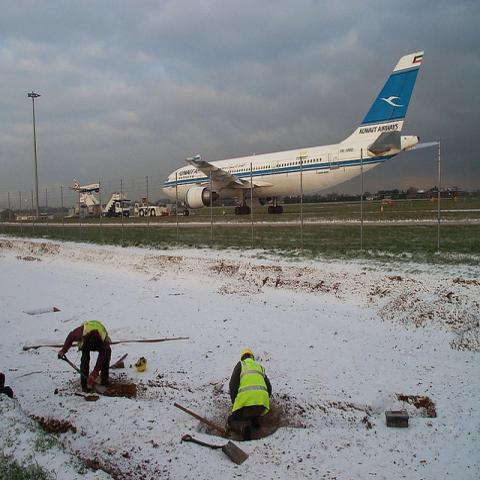truck: (134, 203, 162, 217)
